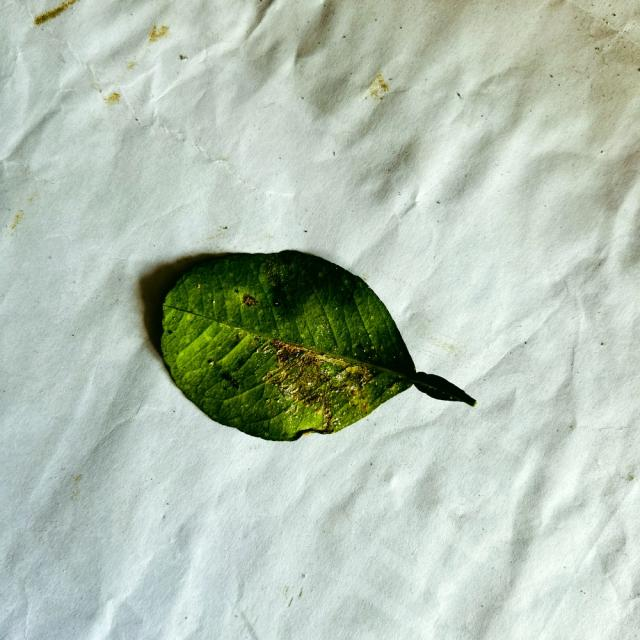Bacterial_Blight: (265, 343, 358, 411), (259, 258, 296, 301), (268, 340, 313, 367), (311, 350, 358, 370), (277, 346, 301, 381), (219, 371, 241, 390), (261, 259, 278, 275), (242, 294, 258, 306), (355, 343, 367, 352), (301, 430, 314, 437), (252, 336, 261, 346), (208, 360, 215, 365), (196, 283, 201, 289)
Lemon: (138, 251, 475, 445)
